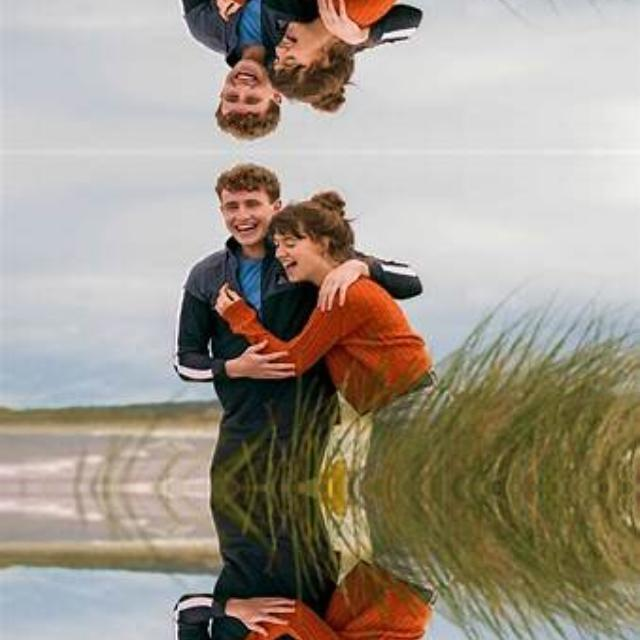person: (264, 198, 431, 396), (190, 168, 284, 356), (263, 0, 430, 103), (190, 0, 284, 134), (263, 578, 430, 640), (190, 618, 284, 640)
